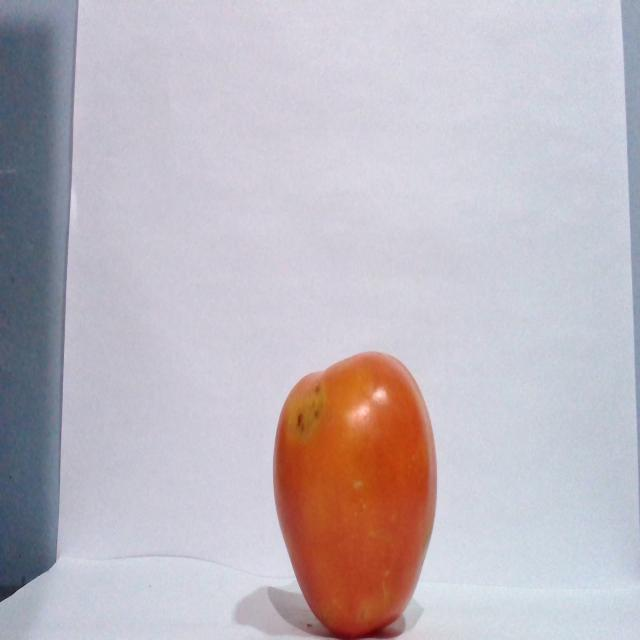Red: (271, 349, 438, 637)
